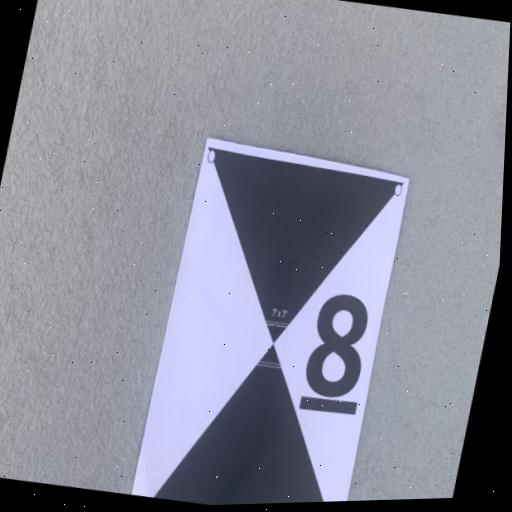target8: (130, 138, 409, 505)
